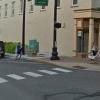Crosswalk: (6, 58, 73, 96)
